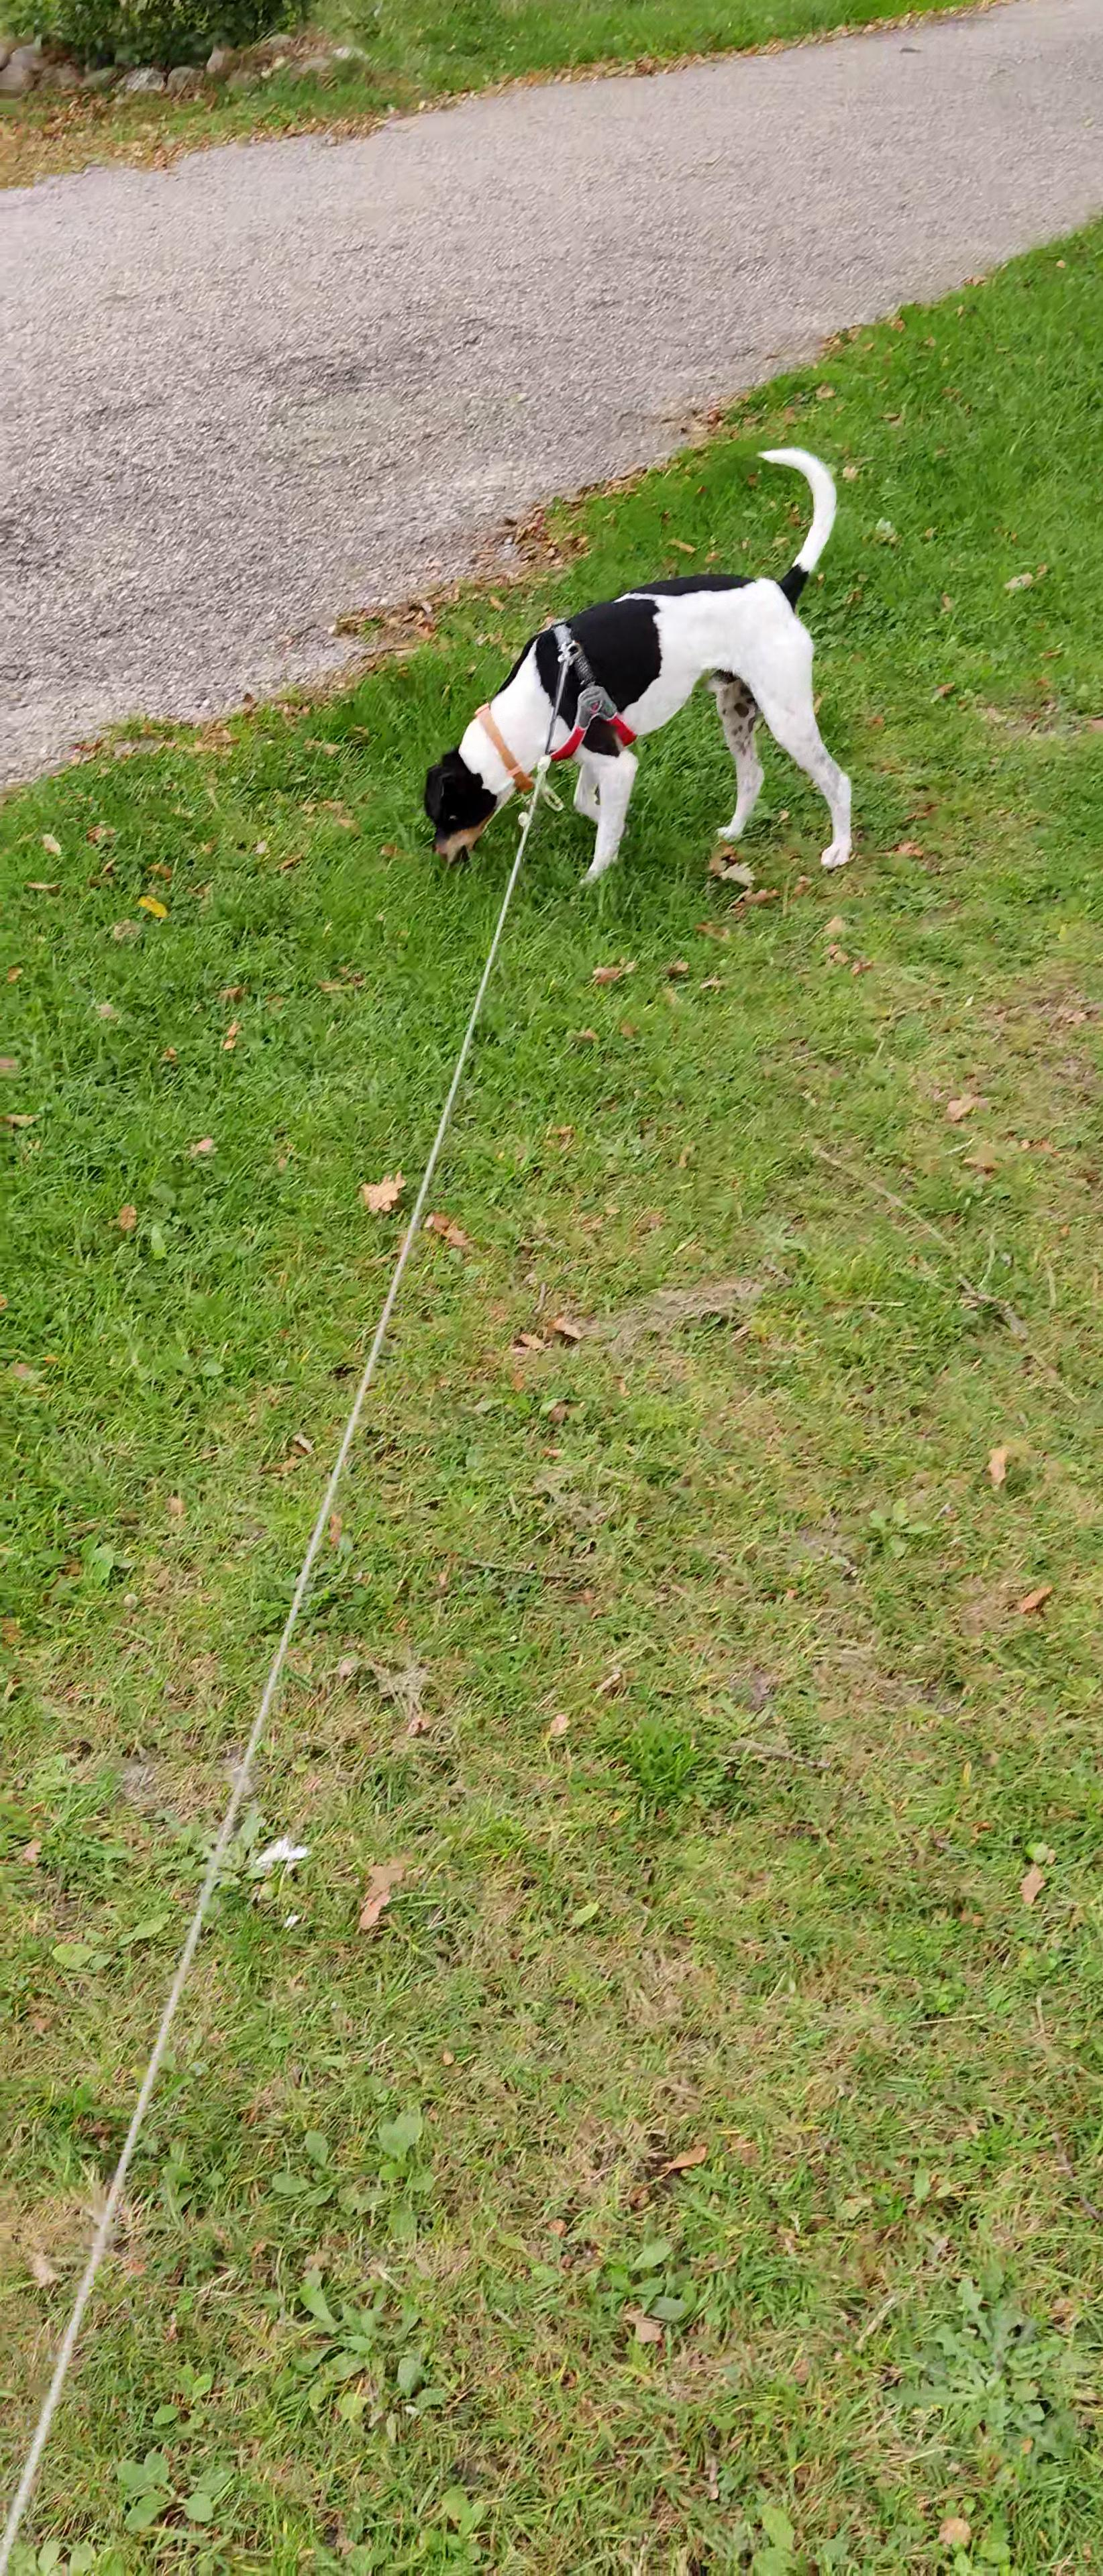Dog: (404, 440, 878, 890)
